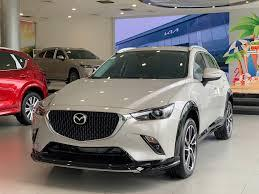mazda: (74, 108, 89, 129)
